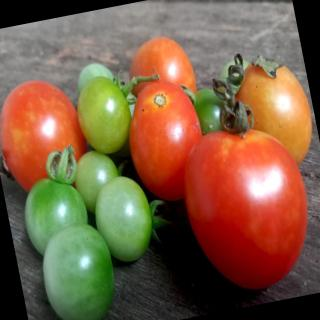Tomat: (170, 112, 320, 301), (118, 73, 215, 207)
